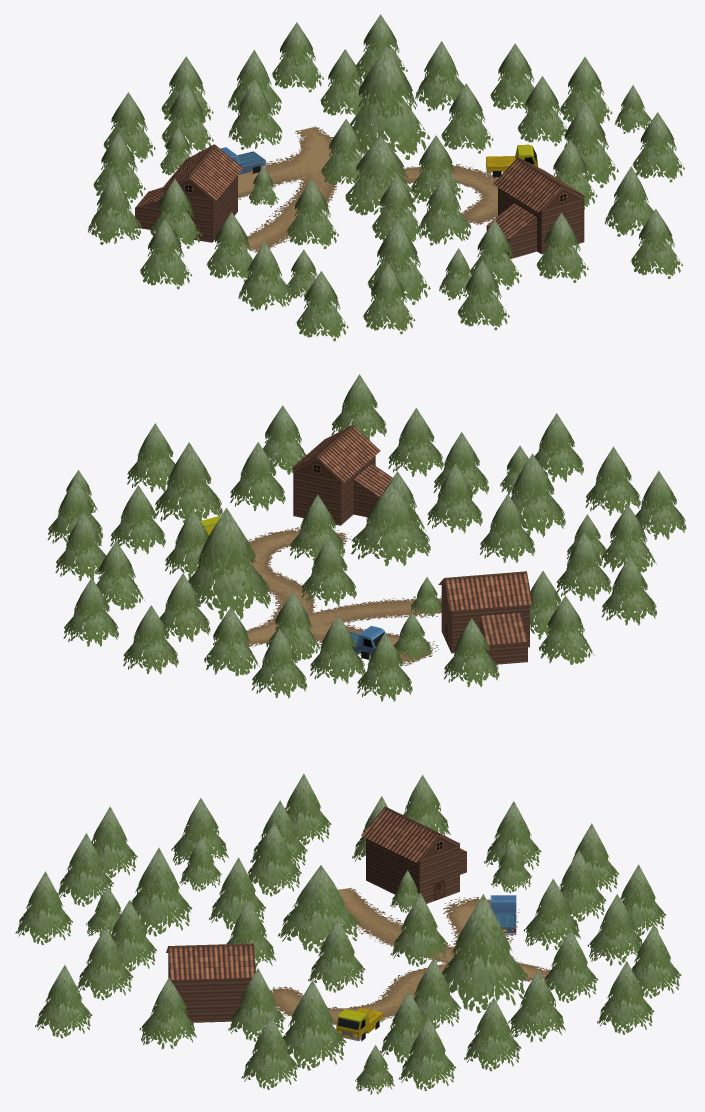
File: SM_ForestHouses.fbx
3 renders of one model, top to bottom at view 1: azimuth 30°, elevation 25°; view 2: azimuth 150°, elevation 25°; view 3: azimuth 270°, elevation 25°, orthographic. The views are drawn at different scales.
Parts seen in each view (by area): view 1: SM_Trees, SM_Path, SM_House, SM_House.001, SM_TruckYellow, SM_TruckBlue; view 2: SM_Trees, SM_House.001, SM_House, SM_Path, SM_TruckBlue; view 3: SM_Trees, SM_House.001, SM_House, SM_Path, SM_TruckYellow, SM_TruckBlue.
Boxes of the visible parts, left/top/right/bottom form: SM_Trees: left=88, top=14, right=684, bottom=341; SM_Path: left=238, top=126, right=497, bottom=252; SM_House: left=486, top=157, right=587, bottom=258; SM_House.001: left=135, top=144, right=242, bottom=242; SM_TruckYellow: left=486, top=144, right=537, bottom=177; SM_TruckBlue: left=220, top=147, right=265, bottom=174; SM_Trees: left=47, top=374, right=686, bottom=701; SM_House.001: left=438, top=571, right=532, bottom=664; SM_House: left=288, top=425, right=392, bottom=525; SM_Path: left=243, top=527, right=441, bottom=665; SM_TruckBlue: left=349, top=625, right=384, bottom=659; SM_Trees: left=15, top=773, right=681, bottom=1094; SM_House.001: left=361, top=806, right=466, bottom=903; SM_House: left=166, top=943, right=255, bottom=1022; SM_Path: left=270, top=887, right=550, bottom=1025; SM_TruckYellow: left=336, top=1007, right=383, bottom=1041; SM_TruckBlue: left=490, top=895, right=516, bottom=934.
Bounding box in the file's own units: 90.19 × 15.65 × 91.69.
